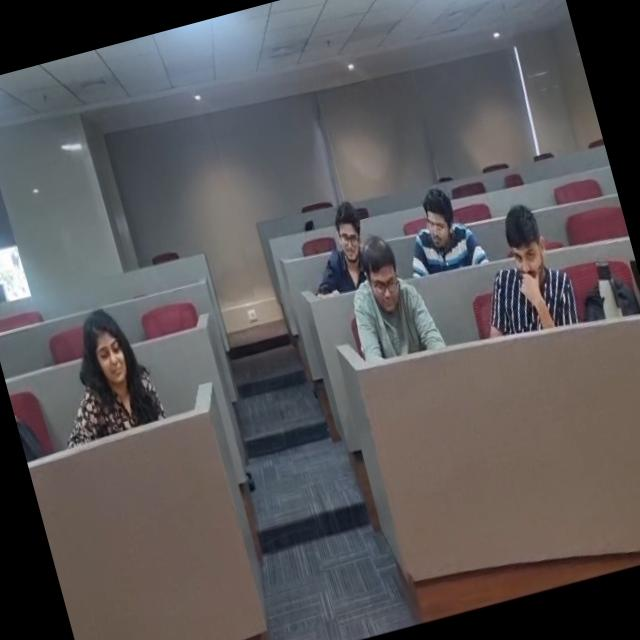cheating: (347, 227, 432, 355), (492, 208, 578, 333), (400, 180, 485, 280), (308, 196, 382, 280)
non-cheating: (46, 290, 165, 435)
